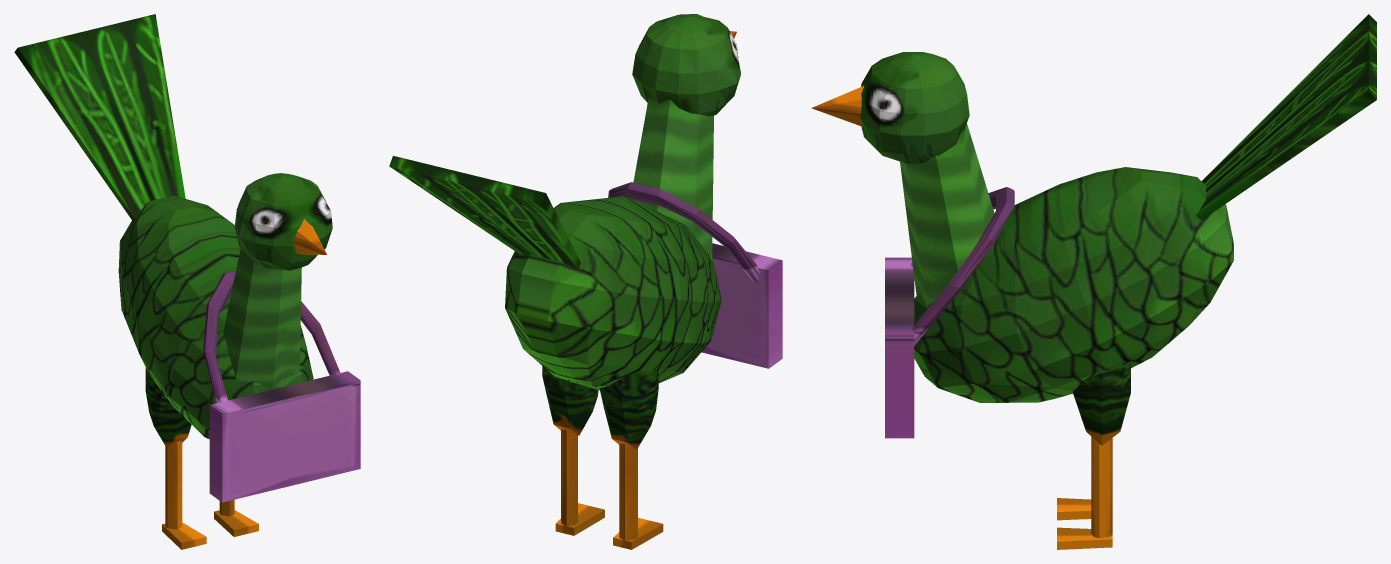
The model's file is Piegon.glb.
3 views of the same model, side by side, from view 1: azimuth 30°, elevation 25°; view 2: azimuth 150°, elevation 25°; view 3: azimuth 270°, elevation 25° (orthographic). The views are drawn at different scales.
Parts seen in each view (by area): view 1: Piegon; view 2: Piegon; view 3: Piegon.
Boxes of the visible parts, <box> form: Piegon: <box>14,14,360,549</box>; Piegon: <box>389,14,782,549</box>; Piegon: <box>811,14,1376,549</box>.
Bounding box in the file's own units: 47.63 × 131 × 142.
Materials: 1 (1 with a texture image).
